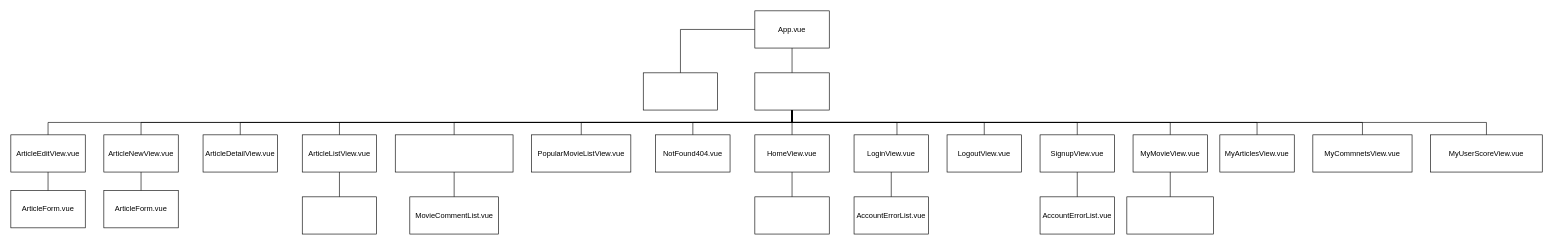
Some shapes in this 1553 by 245 pixel diagram are drawn without their labels. Here are the shapes that lost their labels. From the top down, the centre of each, then its label:
At [680,91]: "rouer-link".
At [791,91]: "router-view".
At [454,153]: "PopularMovieDetailView.vue".
At [339,215]: "CommentList.vue".
At [791,215]: "NowMovie.vue".
At [1170,215]: "MovieRecommend.vue".
